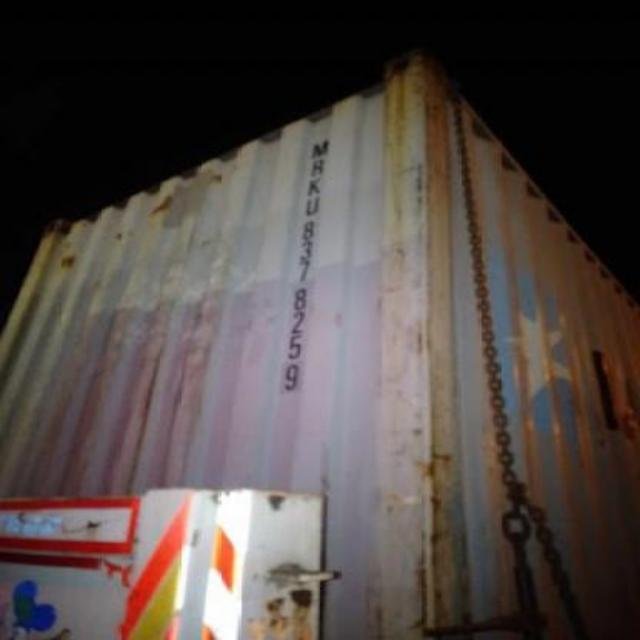2: (290, 310, 310, 334)
3: (299, 240, 315, 262)
5: (286, 332, 306, 360)
7: (296, 262, 318, 282)
8: (292, 285, 314, 311), (300, 218, 318, 240)
9: (282, 361, 300, 393)
K: (304, 178, 326, 192)
M: (310, 139, 334, 159)
R: (308, 156, 328, 177)
U: (304, 194, 324, 216)
